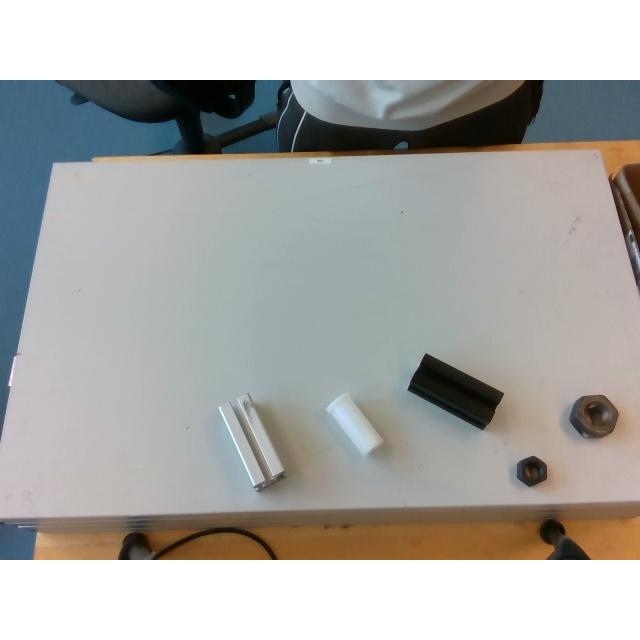M20: (517, 456, 547, 486)
M30: (569, 395, 617, 437)
S40_40_B: (408, 354, 504, 430)
S40_40_G: (218, 394, 286, 491)
Spacer: (326, 394, 382, 454)
